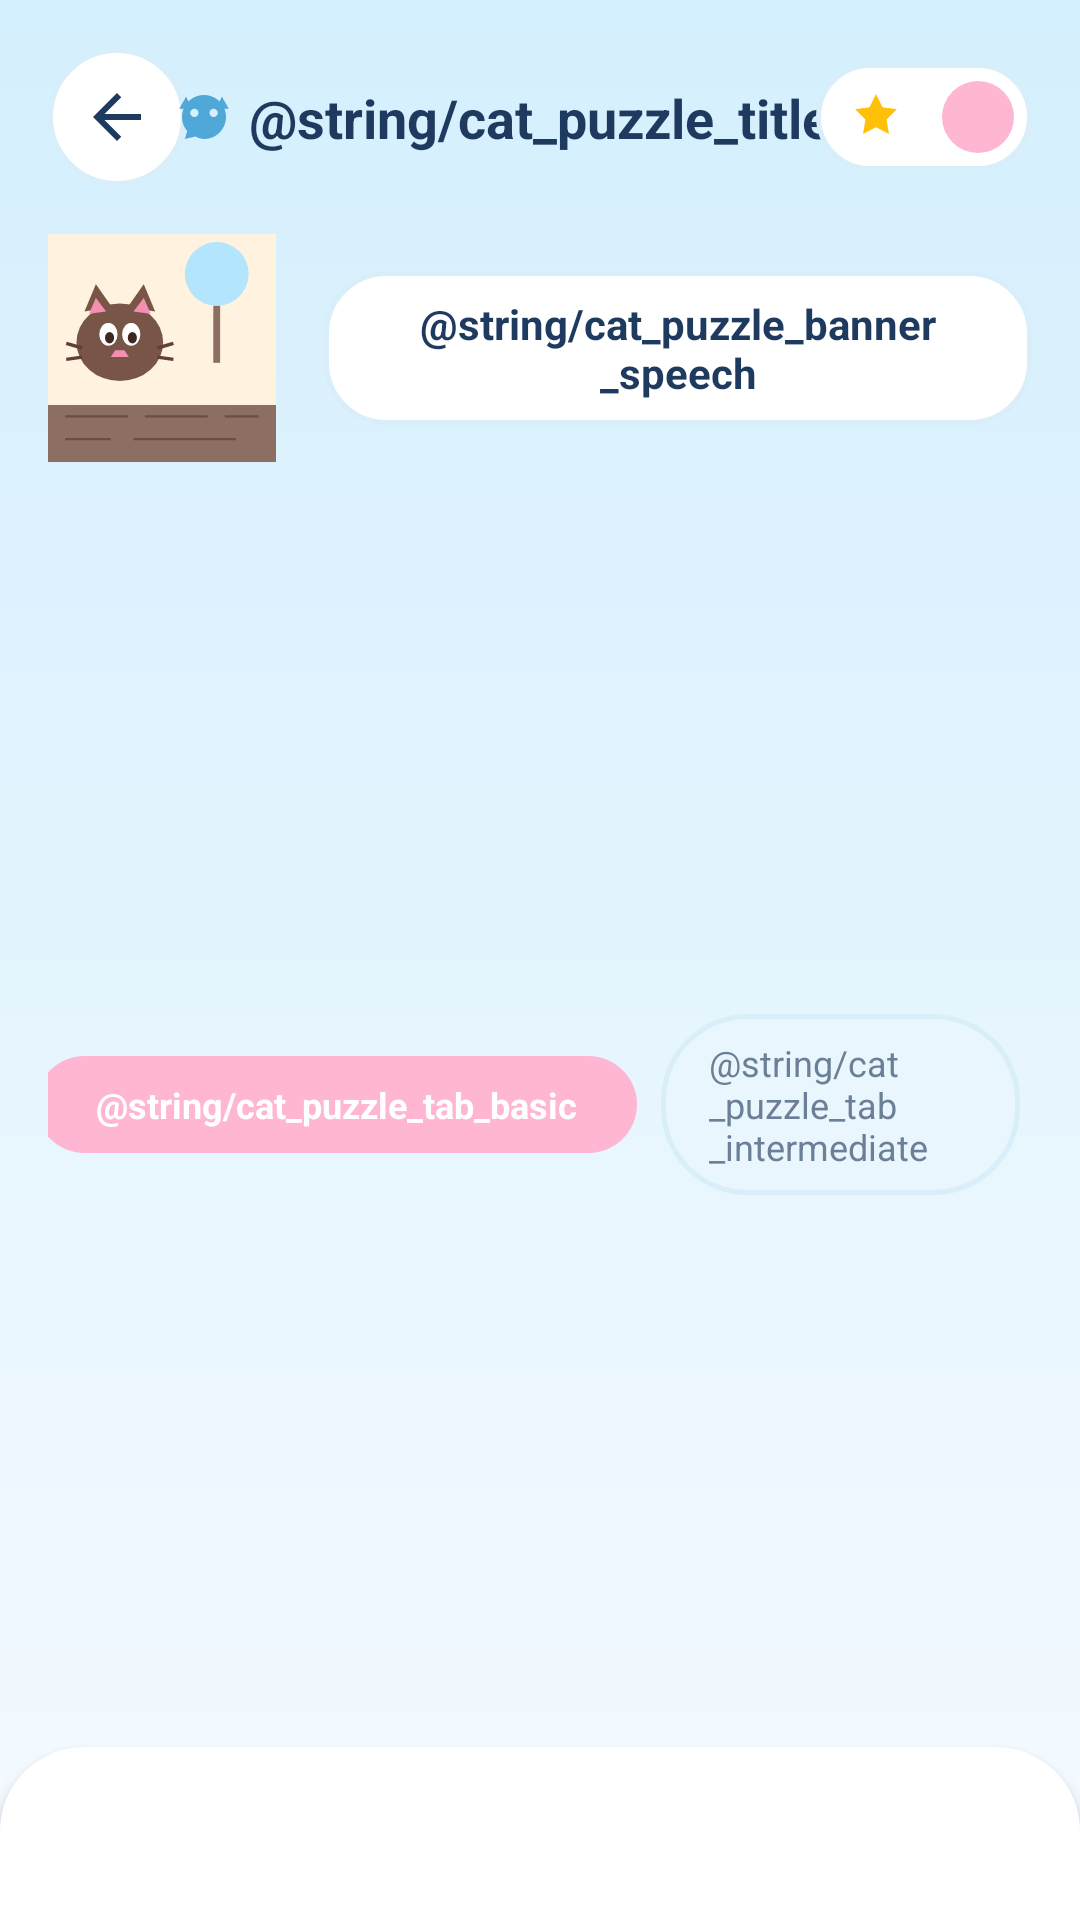

Where icons sit on this 1080*1920 app screen, as (x1, y1, x2, y2):
Back: (53, 53, 186, 181)
puzzle cute cat: (48, 234, 276, 462)
star: (855, 94, 897, 134)
